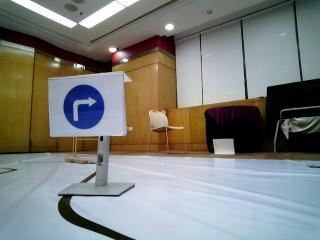right: (44, 80, 123, 131)
